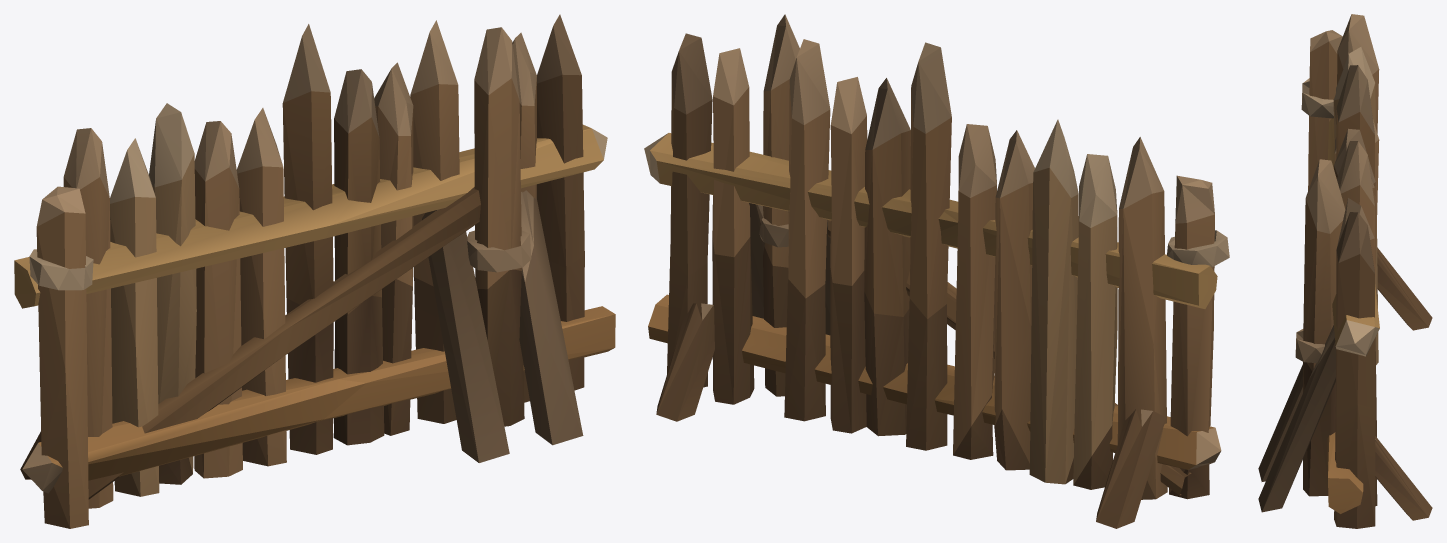
File: fence_palisade_b_low.glb
3 views of the same model, side by side, from view 1: azimuth 30°, elevation 25°; view 2: azimuth 150°, elevation 25°; view 3: azimuth 270°, elevation 25° (orthographic). The views are drawn at different scales.
Size of the model in its own units: 2.4 by 1.63 by 0.72.
